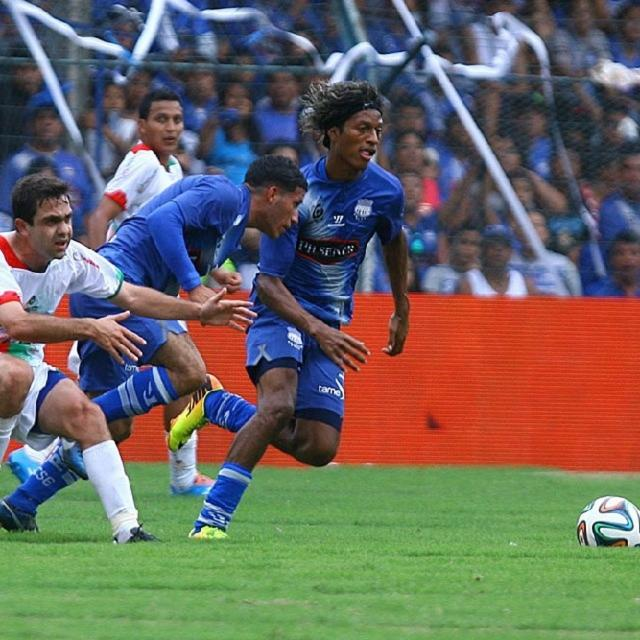Football: (570, 494, 638, 548)
